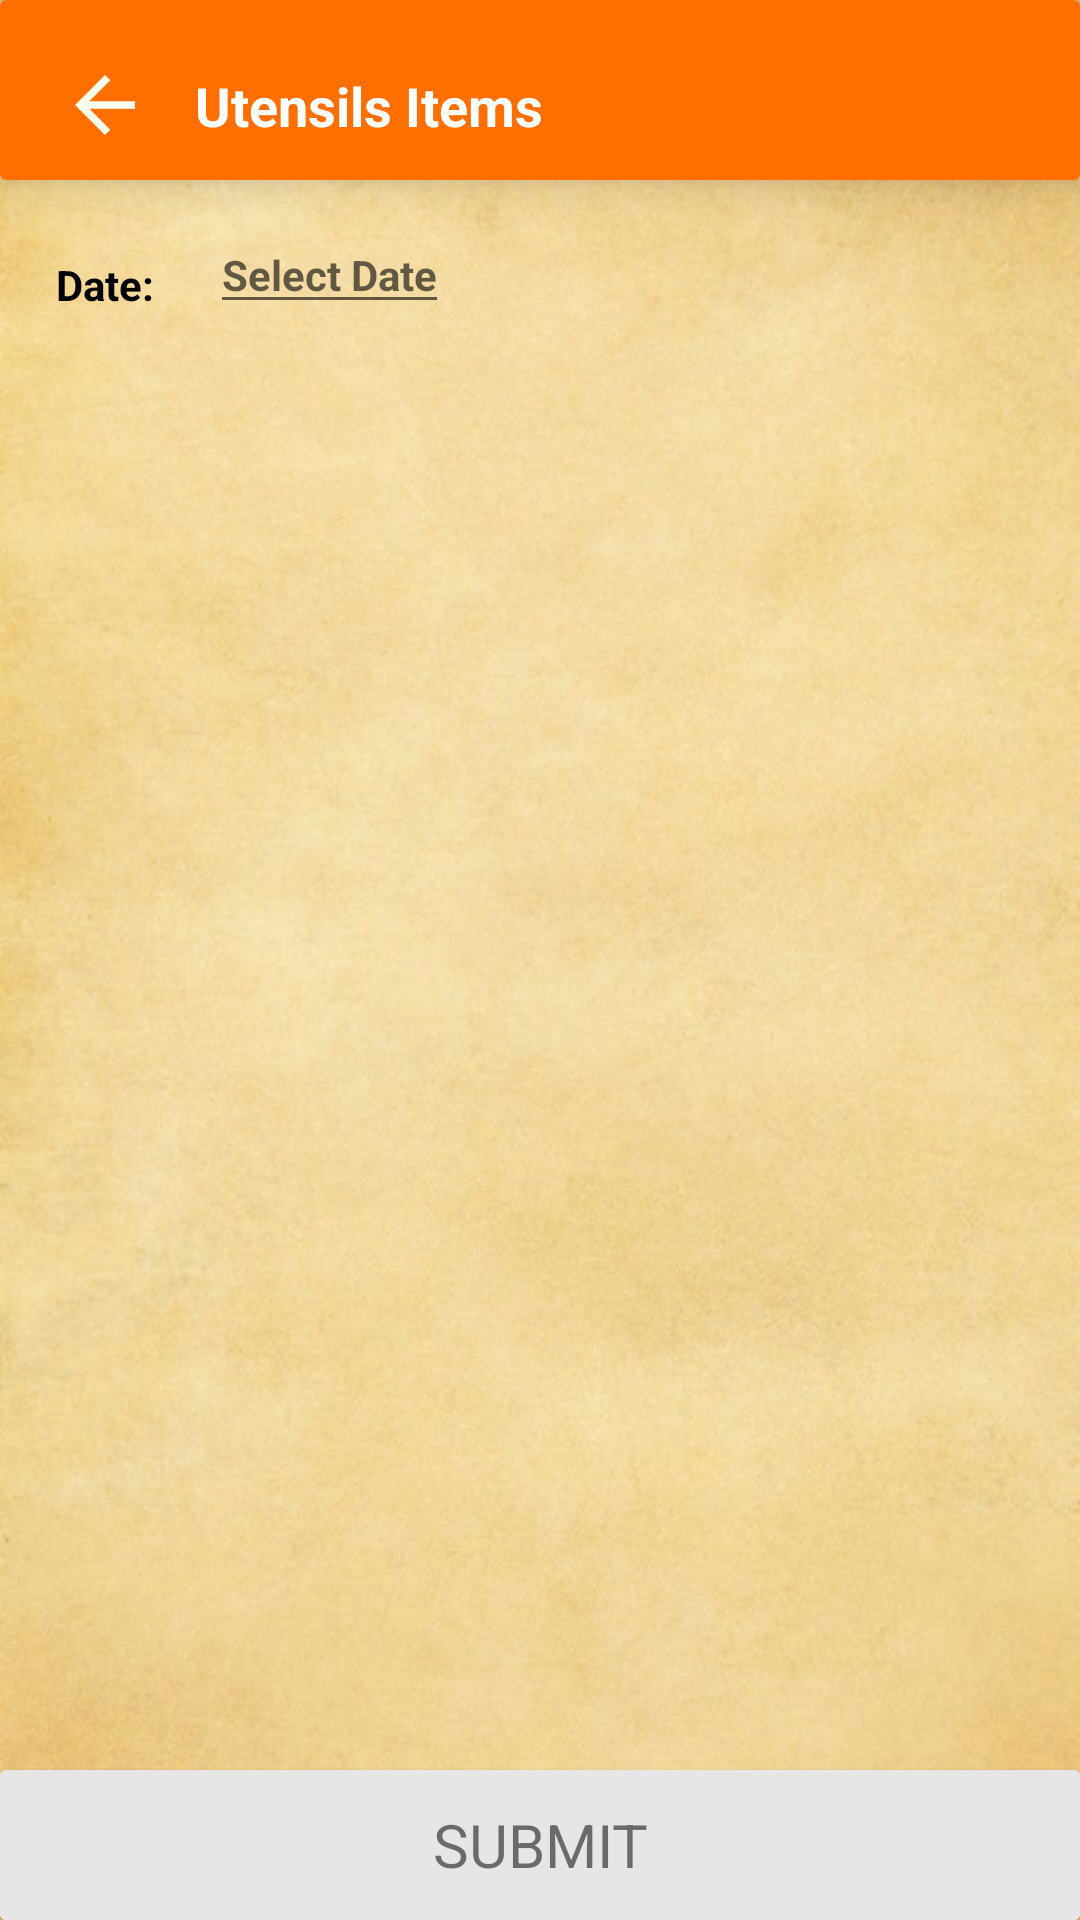

Locate icon controls on the screen. Image size 1080px×1920px, boxes as BBox(x1, y1, x2, y2).
arrow back: BBox(75, 75, 135, 135)
